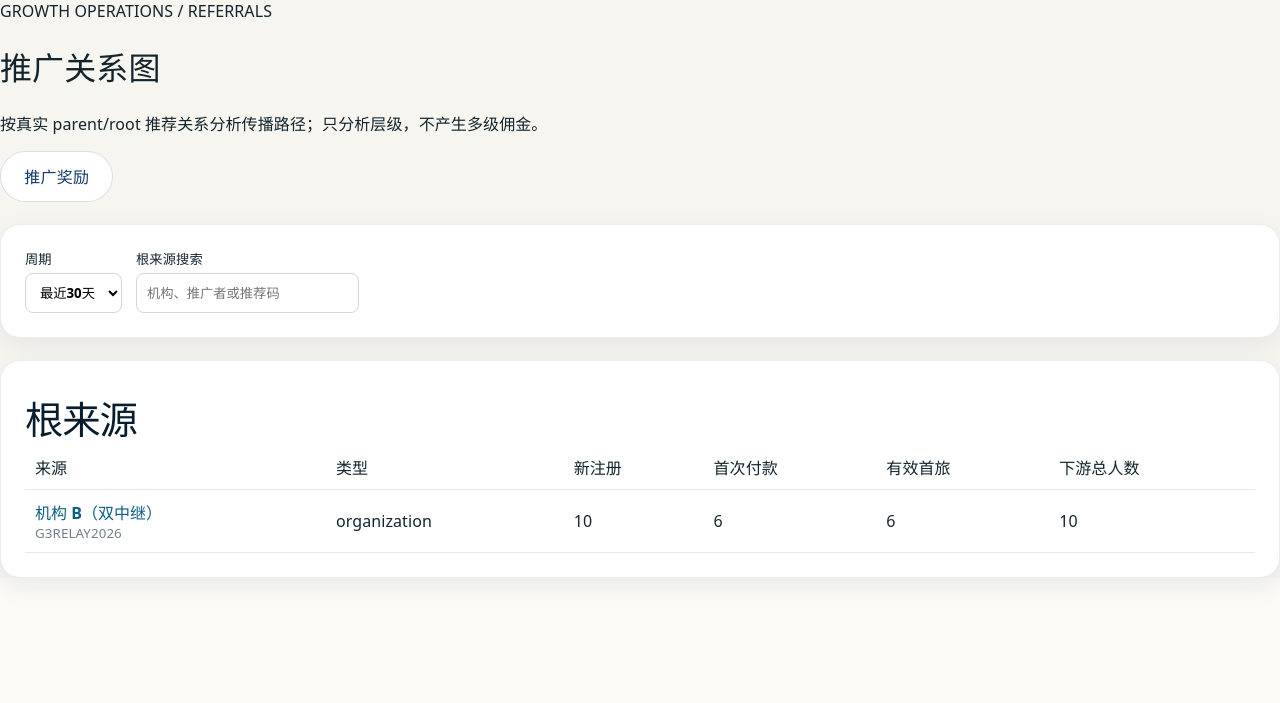
it: ReferralTreeCenter › shows the root funnel and a relay interpretation from operations data
Click the button "机构 B（双中继）": x=98, y=512 [35, 500, 162, 524]
(page scrolled)
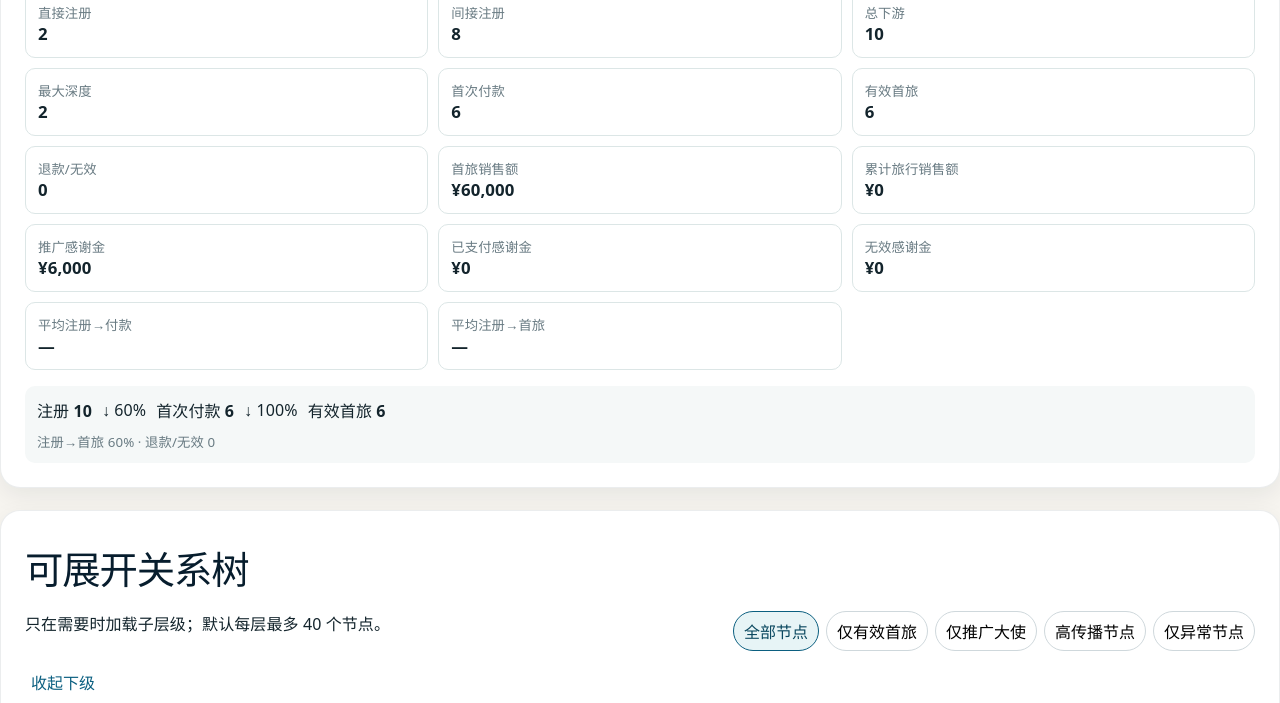
Expected: the text "注册 10" is shown, [37, 398, 92, 422]
